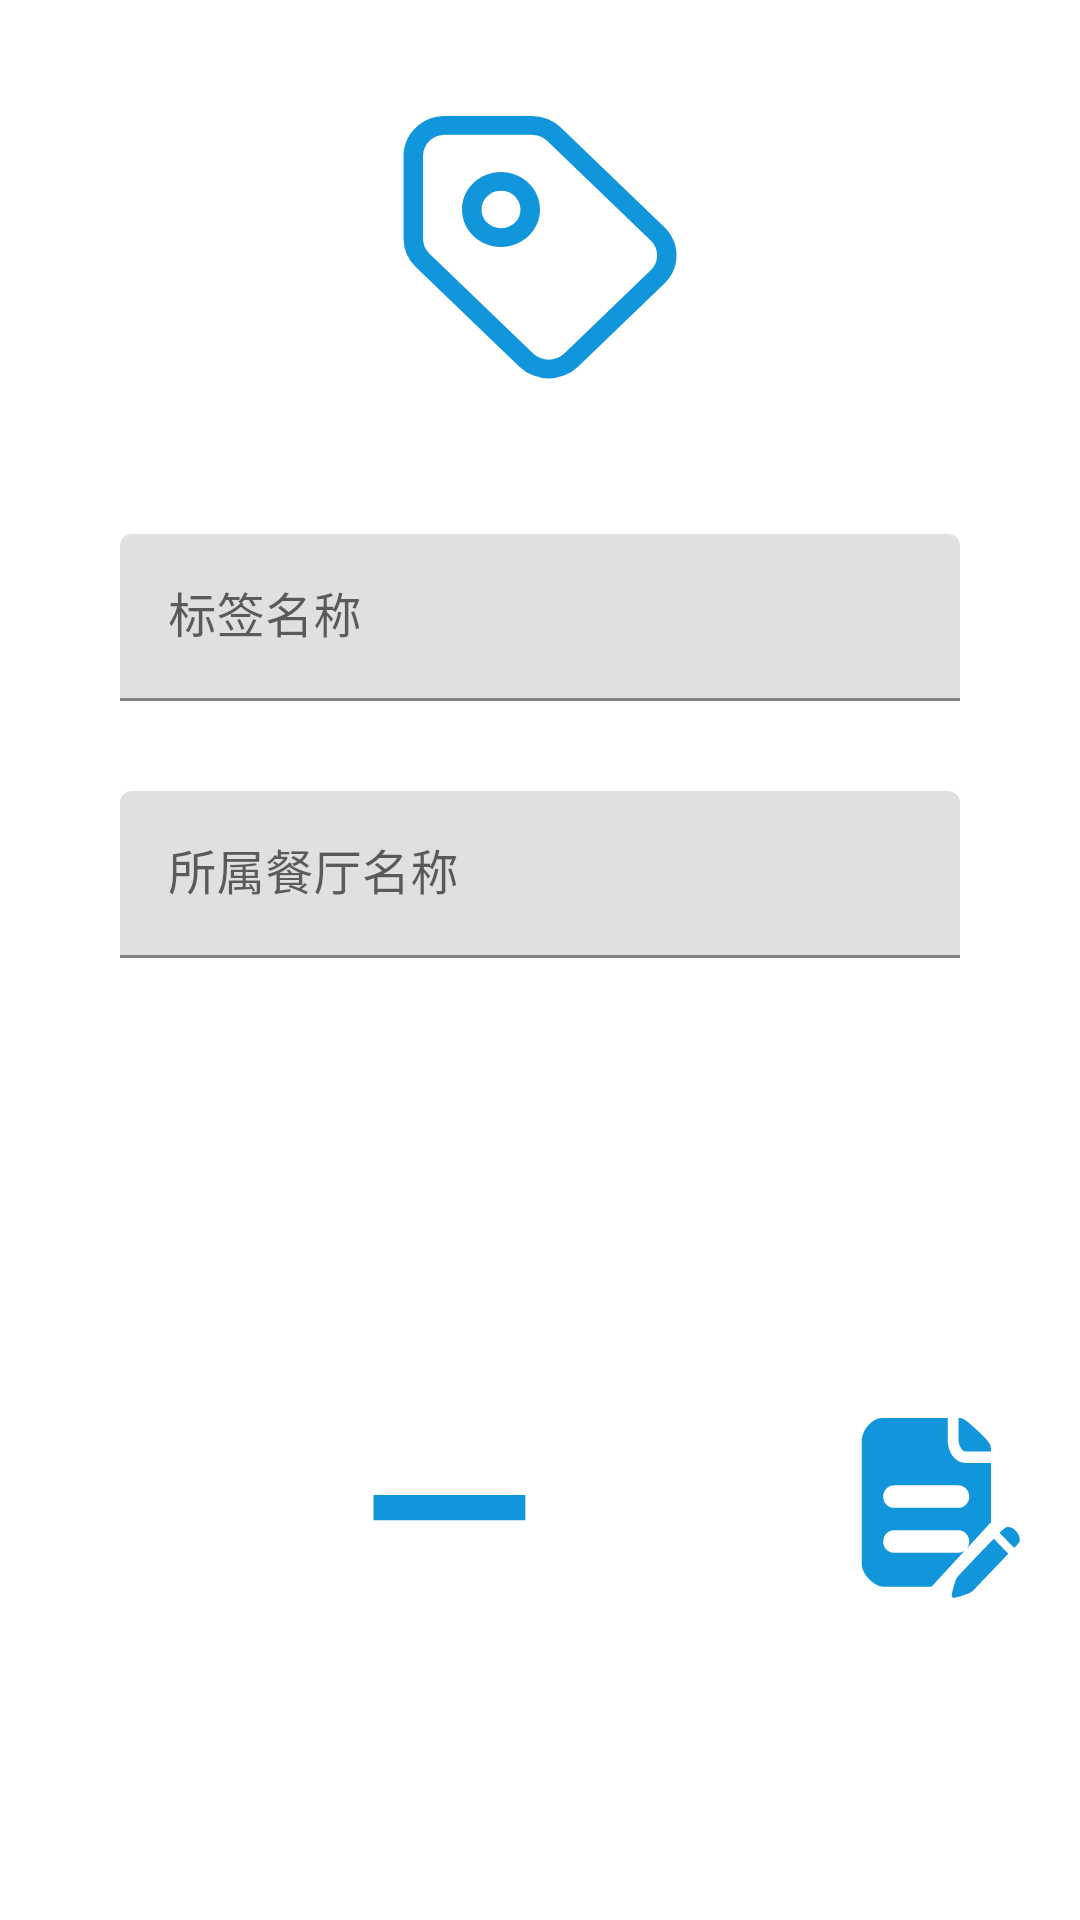

Point at icon controls on the screen. Image size 1080px x 1920px, points as [x,y].
label title: [540,247]
restaurant modify: [940,1508]
